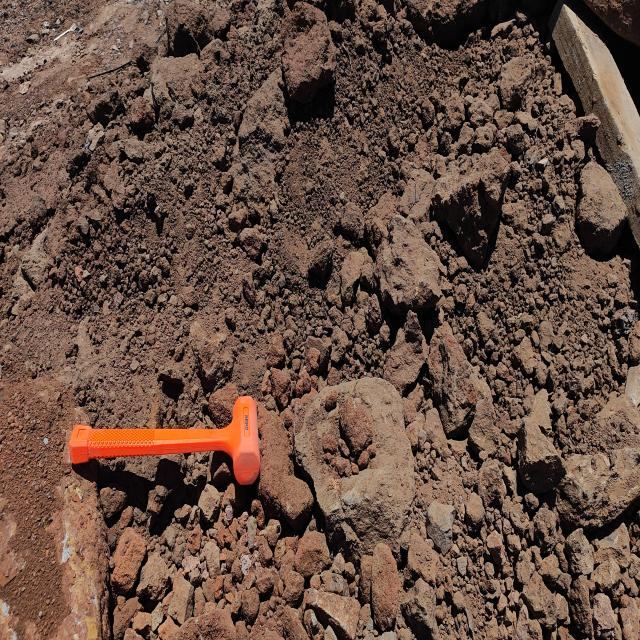Orange_hammer: (68, 394, 261, 486)
